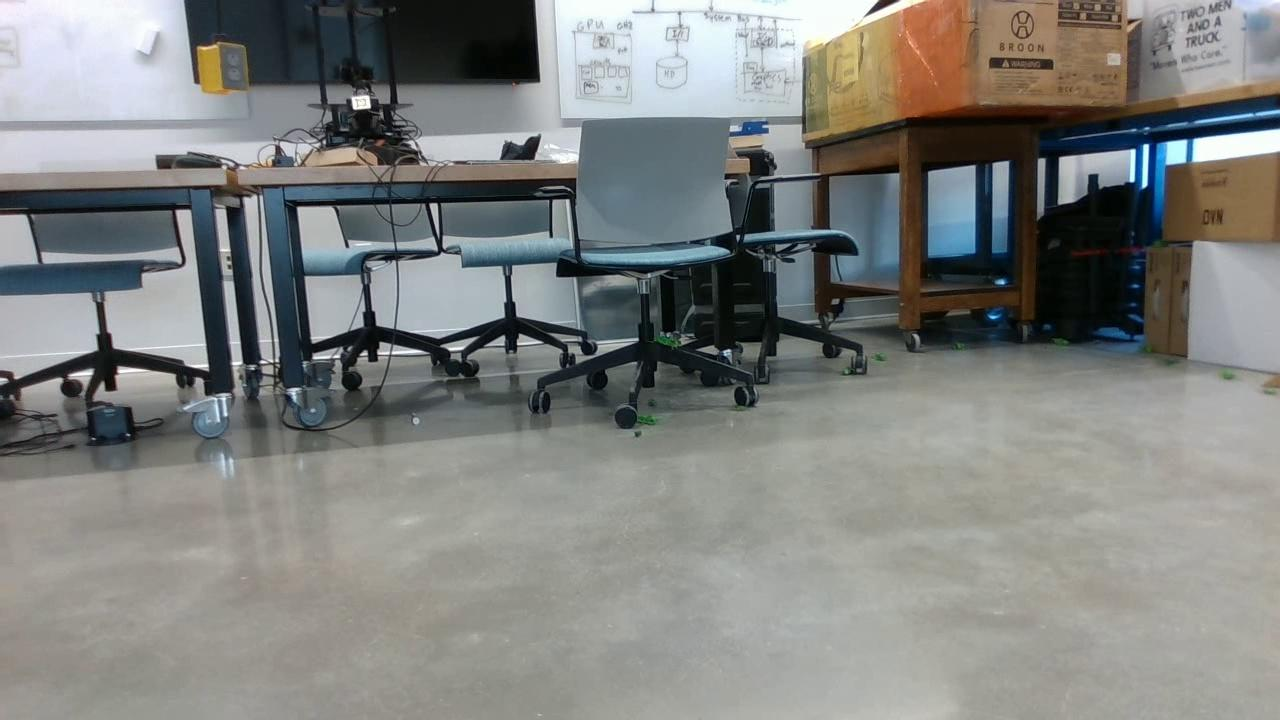grasshopper: (649, 329, 681, 346), (1216, 363, 1238, 387), (632, 410, 658, 430), (1045, 334, 1073, 349), (838, 361, 859, 376), (943, 340, 967, 350), (873, 349, 891, 360)
